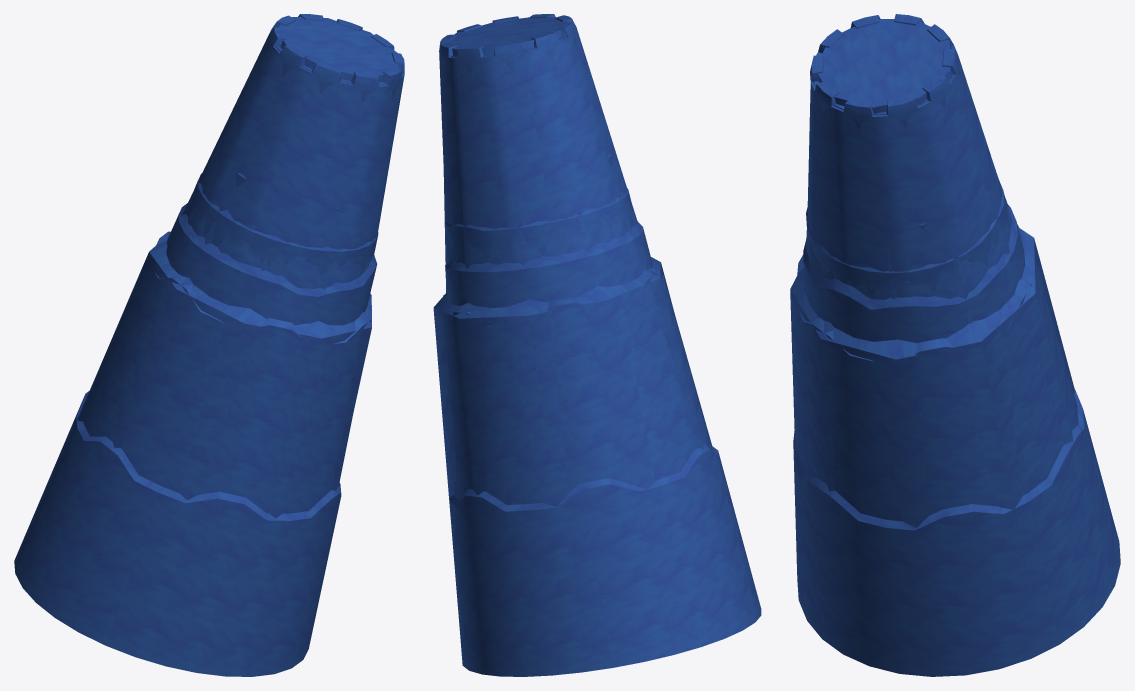
File: CastleKit_Tower_01.fbx
3 renders of one model, left to right at view 1: azimuth 30°, elevation 25°; view 2: azimuth 150°, elevation 25°; view 3: azimuth 270°, elevation 25°, orthographic. The views are drawn at different scales.
Parts seen in each view (by area): view 1: CastleKitTower_01_LOD0; view 2: CastleKitTower_01_LOD0; view 3: CastleKitTower_01_LOD0.
Boxes of the visible parts, bbox=[...] form: CastleKitTower_01_LOD0: bbox=[14, 14, 404, 676]; CastleKitTower_01_LOD0: bbox=[433, 14, 761, 676]; CastleKitTower_01_LOD0: bbox=[790, 14, 1120, 676].
Size of what is drawn, in the model's own units: 8217 by 14538 by 6764.
1 material, 1 textured.
